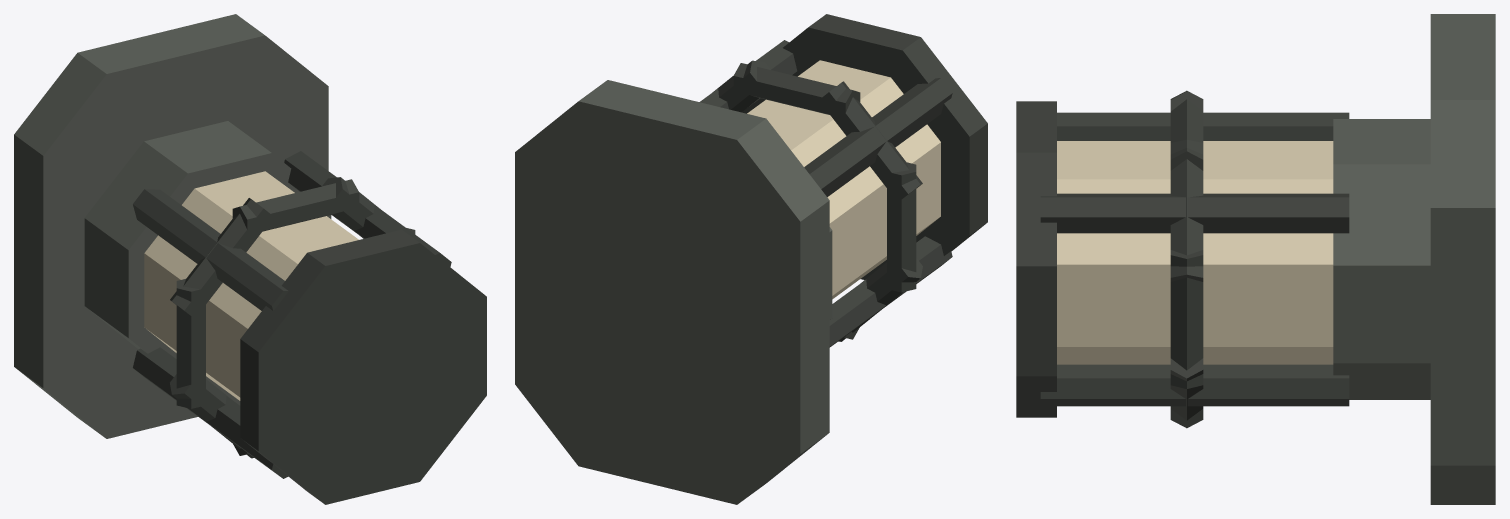
File: CageLamp.fbx
3 renders of one model, left to right at view 1: azimuth 30°, elevation 25°; view 2: azimuth 150°, elevation 25°; view 3: azimuth 270°, elevation 25°, orthographic. The views are drawn at different scales.
Visible parts, largest first — view 1: CageLamp_Cage, CageLamp_Body, CageLamp_Glass; view 2: CageLamp_Body, CageLamp_Cage, CageLamp_Glass; view 3: CageLamp_Body, CageLamp_Cage, CageLamp_Glass.
Boxes of the visible parts, <box> form: CageLamp_Cage: <box>133,151,486,504</box>; CageLamp_Body: <box>14,14,331,438</box>; CageLamp_Glass: <box>144,171,358,400</box>; CageLamp_Body: <box>515,80,832,504</box>; CageLamp_Cage: <box>699,14,987,347</box>; CageLamp_Glass: <box>747,60,940,299</box>; CageLamp_Body: <box>1333,14,1495,504</box>; CageLamp_Cage: <box>1016,90,1349,428</box>; CageLamp_Glass: <box>1057,141,1333,364</box>.
Bounding box in the file's own units: 0.9 × 1.1 × 1.18.
